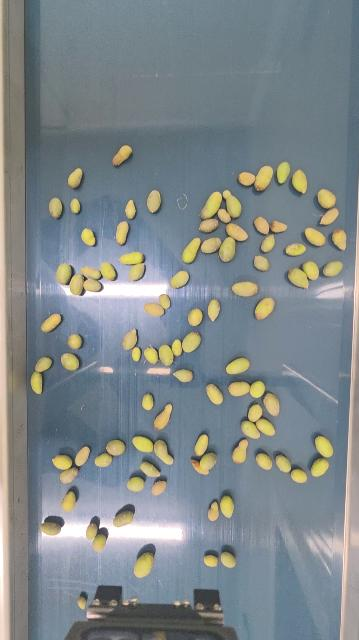Baby Potato: (200, 190, 223, 220), (133, 551, 154, 578), (154, 439, 174, 466), (262, 390, 282, 417), (154, 403, 173, 431), (182, 237, 201, 265), (288, 266, 311, 289), (255, 296, 276, 321), (255, 165, 274, 192), (304, 225, 327, 247), (225, 221, 249, 242), (112, 507, 136, 528), (232, 280, 260, 298), (232, 437, 250, 465), (314, 434, 335, 458), (219, 237, 238, 263), (224, 192, 242, 219), (112, 143, 133, 166), (226, 356, 251, 375), (240, 419, 262, 440), (199, 451, 218, 475), (41, 312, 61, 334), (317, 187, 337, 209), (182, 331, 201, 354), (292, 169, 309, 194), (139, 460, 162, 478), (206, 383, 224, 406), (331, 228, 349, 251), (157, 343, 174, 367), (194, 432, 210, 457), (146, 189, 162, 214), (320, 207, 340, 227), (219, 494, 235, 519), (323, 259, 344, 278), (302, 259, 320, 281), (228, 380, 251, 397), (56, 262, 73, 285), (311, 457, 330, 477), (255, 451, 274, 471), (256, 417, 276, 436), (200, 236, 221, 254), (276, 160, 291, 185), (132, 435, 154, 452), (40, 520, 62, 537), (48, 196, 64, 219), (119, 251, 145, 265), (115, 220, 129, 246), (170, 270, 189, 289), (60, 352, 79, 371), (106, 438, 126, 456), (59, 466, 79, 484), (100, 260, 117, 281), (275, 453, 292, 474), (51, 454, 73, 470), (69, 273, 84, 296), (254, 215, 271, 235), (207, 298, 221, 322), (144, 301, 165, 317), (261, 233, 277, 254), (285, 242, 307, 257), (75, 445, 90, 467), (122, 328, 137, 350), (61, 490, 76, 512), (68, 167, 83, 189), (31, 371, 44, 396), (249, 379, 266, 398), (144, 345, 159, 366), (81, 265, 102, 280), (129, 262, 145, 281), (248, 403, 264, 422), (221, 550, 237, 569), (174, 368, 194, 383), (151, 479, 168, 496), (254, 254, 271, 271), (127, 476, 145, 492), (34, 356, 52, 372), (238, 170, 256, 186), (188, 308, 203, 327), (200, 218, 219, 233), (209, 499, 221, 522), (291, 467, 308, 483), (81, 228, 96, 246), (83, 278, 102, 292), (95, 452, 112, 467), (85, 522, 99, 540), (93, 533, 107, 551), (67, 334, 82, 350), (125, 199, 137, 219), (204, 553, 220, 568), (271, 219, 288, 233), (171, 338, 183, 357), (158, 293, 172, 309), (142, 393, 154, 411), (69, 197, 81, 214), (191, 457, 203, 474), (131, 346, 141, 361), (77, 595, 87, 609), (177, 196, 187, 209)
